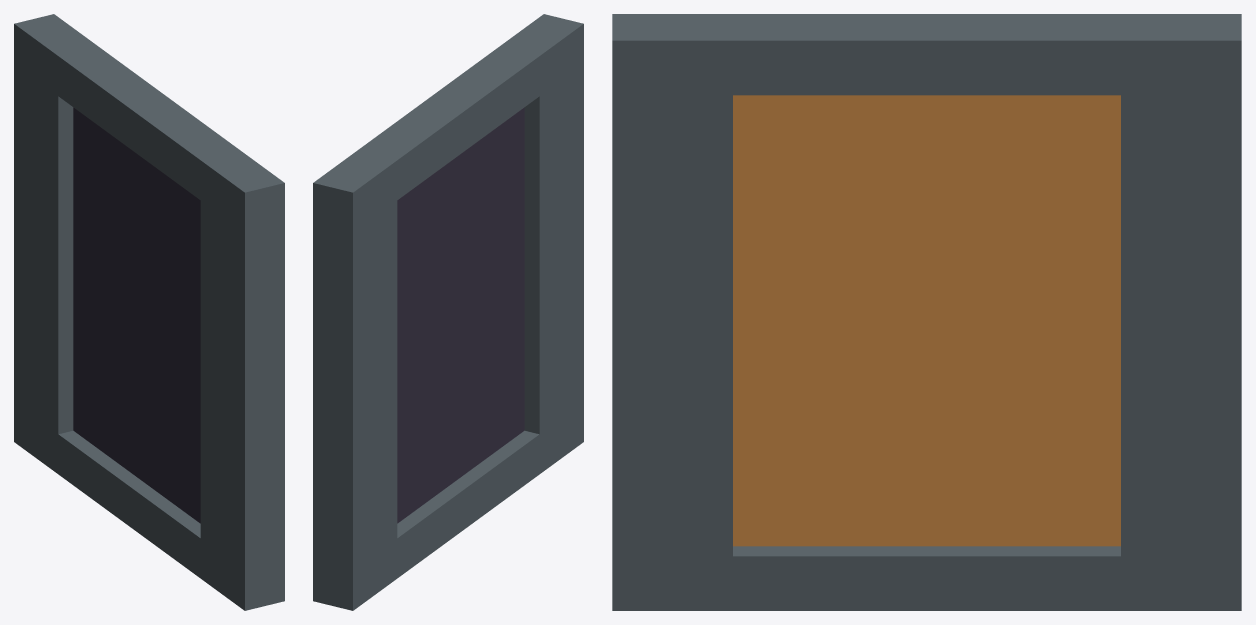
The model's file is SM_window_large.fbx.
The picture shows the model from 3 angles, left to right: view 1: azimuth 30°, elevation 25°; view 2: azimuth 150°, elevation 25°; view 3: azimuth 270°, elevation 25°; orthographic projection. The views are drawn at different scales.
Visible parts, largest first — view 1: Windows_1; view 2: Windows_1; view 3: Windows_1.
Part boxes in pixels (box(x1,y1,x2,y2)): Windows_1: box(14, 14, 284, 610); Windows_1: box(313, 14, 583, 610); Windows_1: box(612, 14, 1241, 610).
Size of the model in its own units: 40 by 400 by 400.
